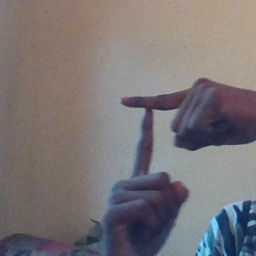T: (104, 78, 204, 196)
